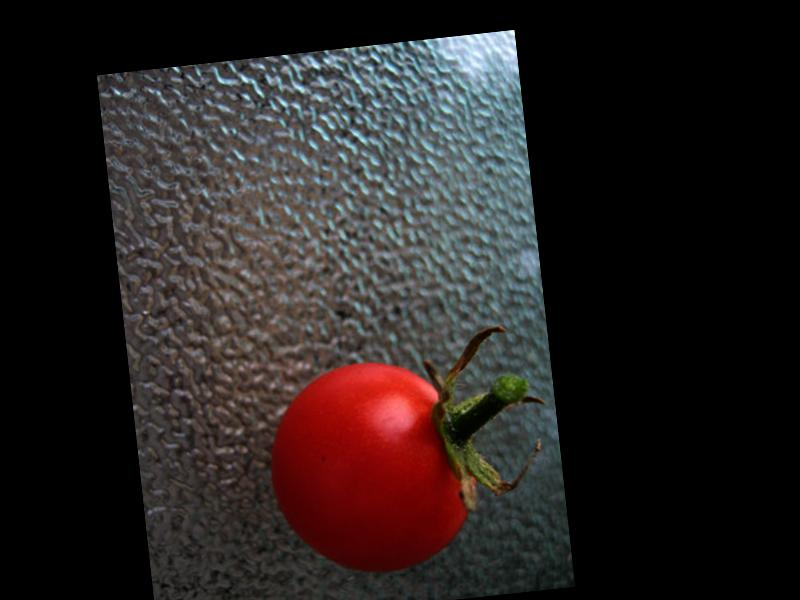Tomato: (259, 350, 474, 581)
